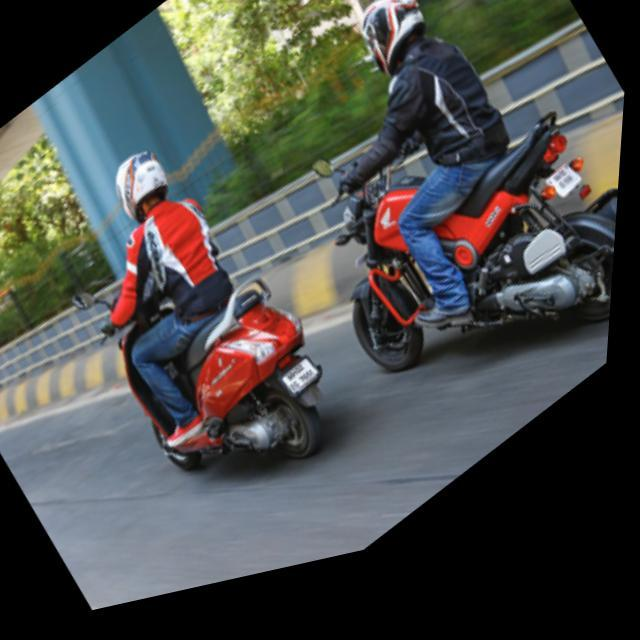Helmet: (349, 0, 438, 86), (112, 142, 176, 220)
